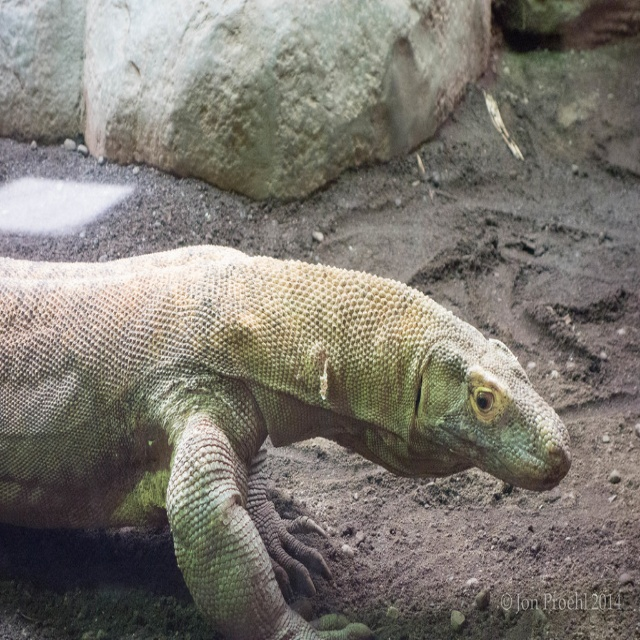Lizard: (0, 244, 571, 640)
